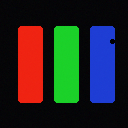0 point: (110, 39, 114, 43)
